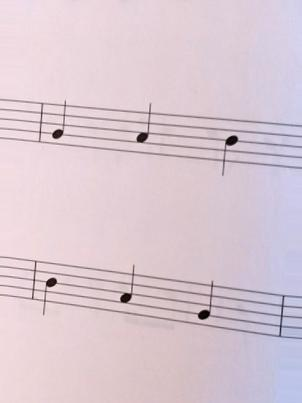A: (115, 260, 140, 327), (133, 99, 156, 170)
B: (35, 255, 65, 322), (218, 112, 242, 180)
G: (47, 97, 71, 159), (195, 277, 217, 342)
